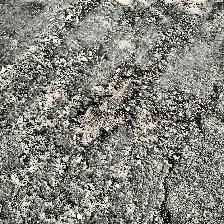pothole: (70, 61, 156, 144)
